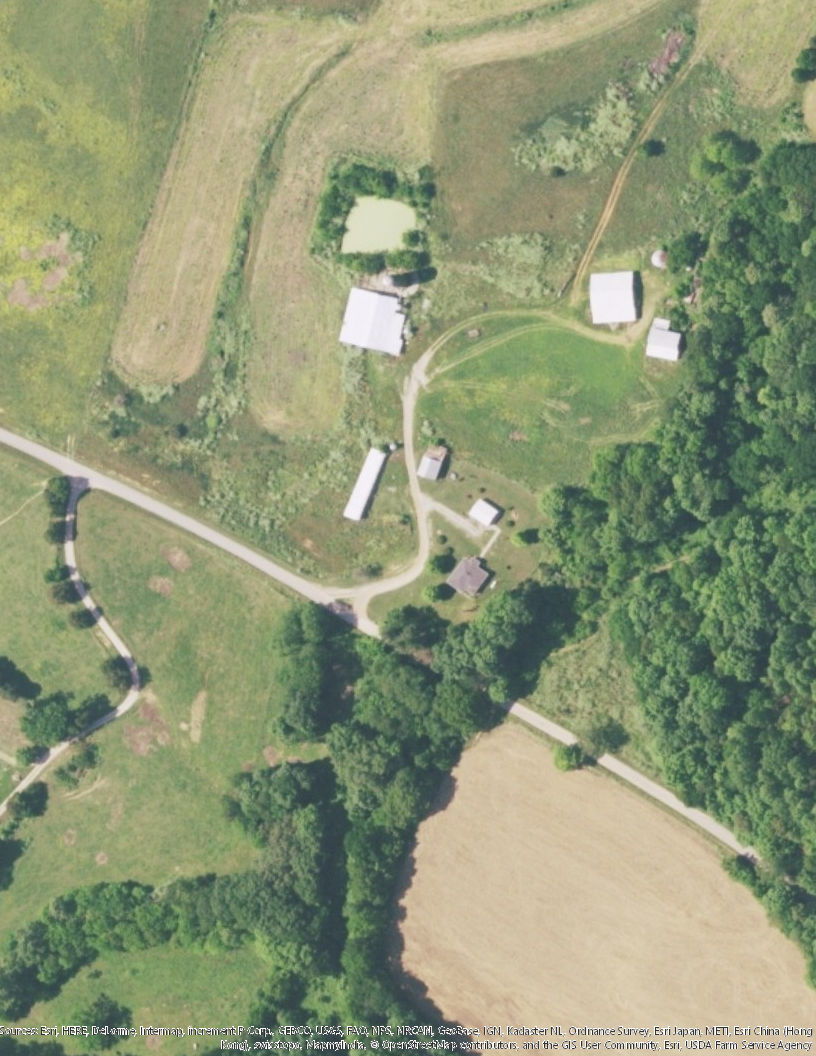cafo: (338, 441, 391, 523)
